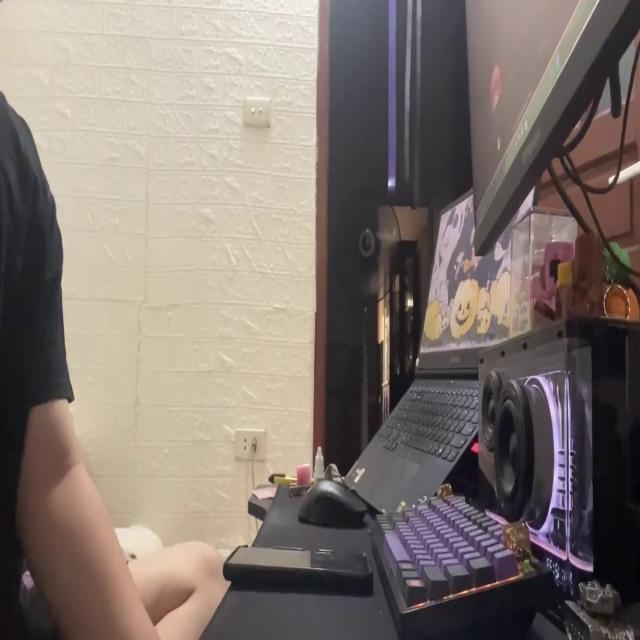laptop: (334, 167, 542, 516), (461, 0, 640, 257)
phone: (218, 539, 374, 605)
student: (0, 93, 226, 640)
